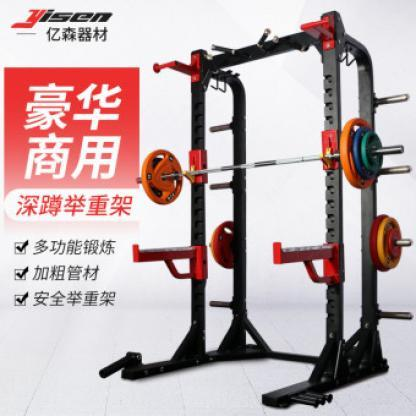smith machine: (140, 10, 411, 409)
